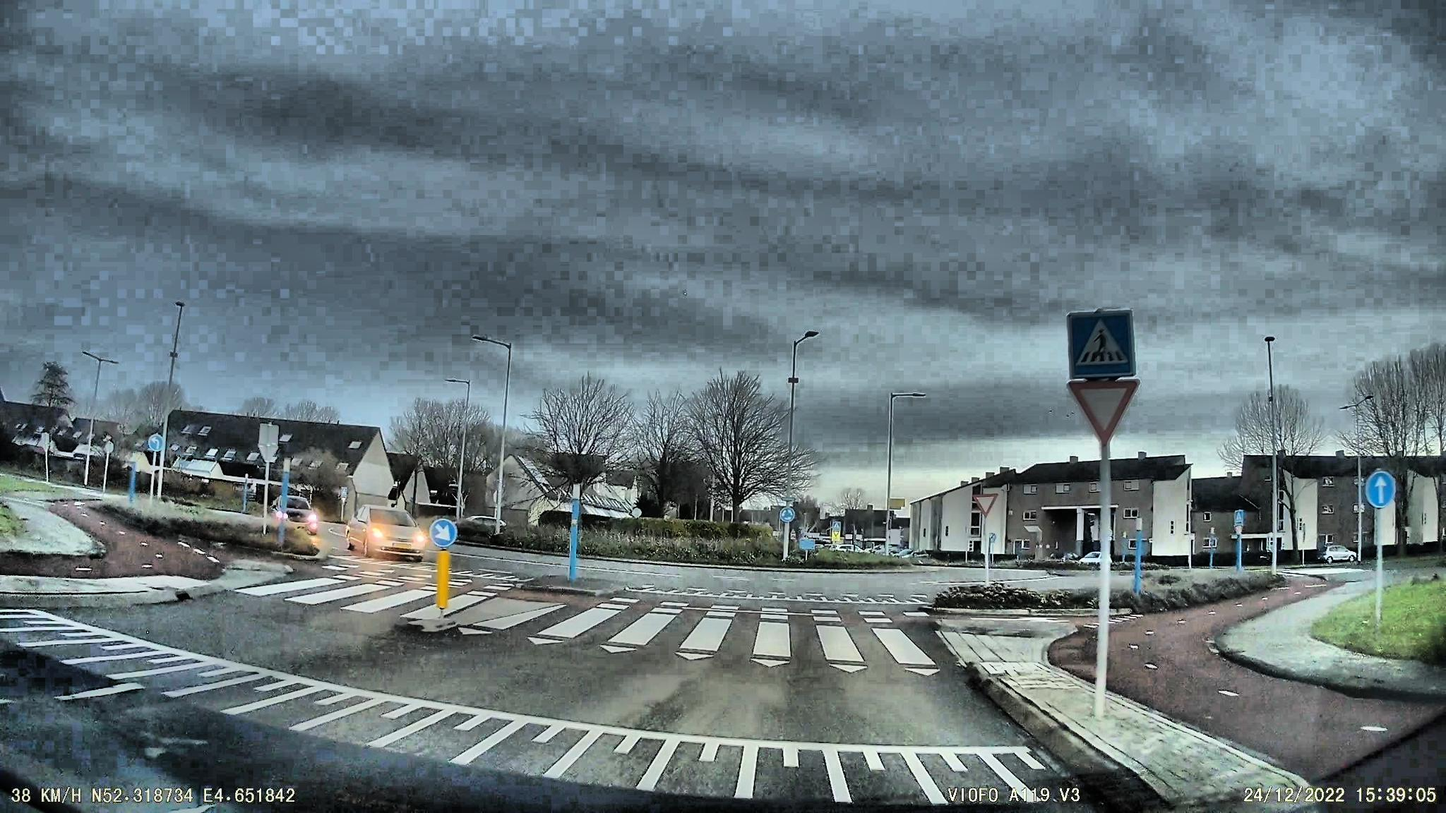Roads: (0, 554, 1084, 813)
